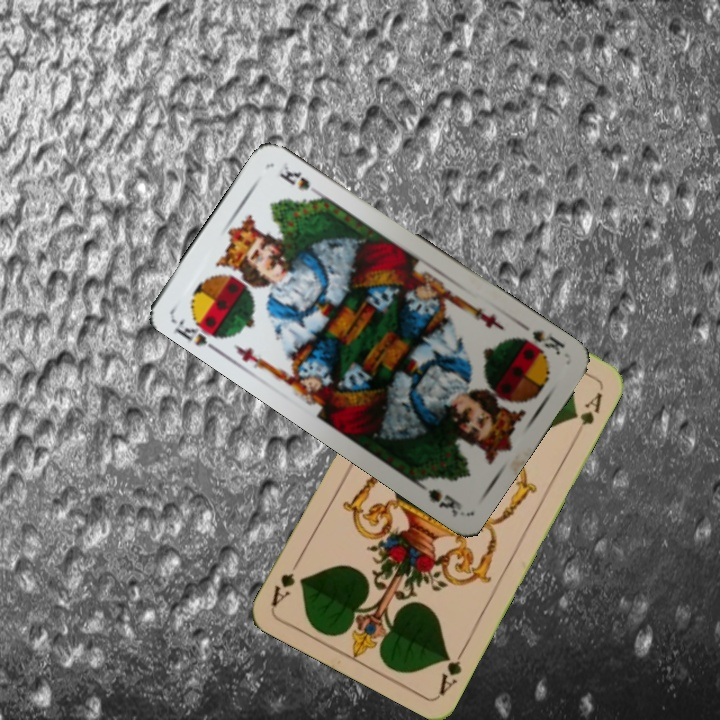GA: (435, 642, 469, 698)
SK: (171, 310, 228, 355), (528, 325, 568, 358)
